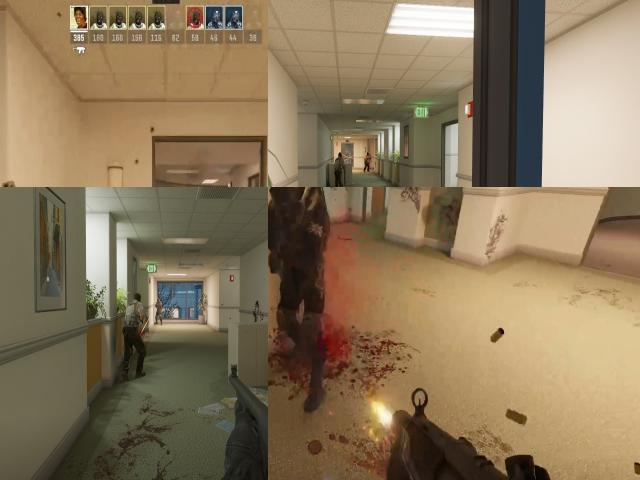CT: (268, 187, 334, 290), (154, 298, 164, 322)
CT-Head: (268, 187, 305, 216), (157, 298, 161, 305)
T: (125, 293, 144, 373), (334, 151, 342, 187), (364, 152, 370, 171)
T-Head: (132, 293, 142, 302), (338, 152, 342, 160), (366, 153, 369, 156)
